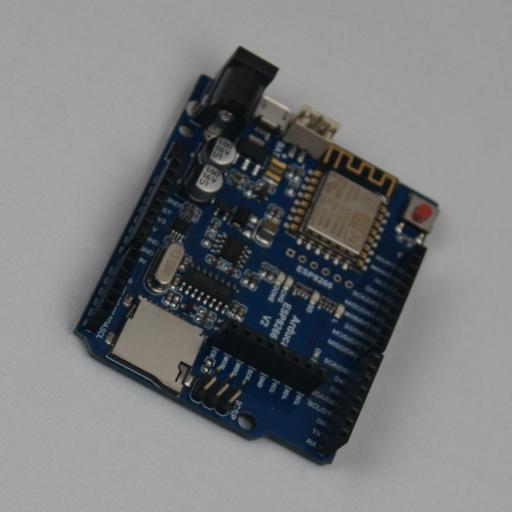Arduino Uno Camera Shield: (73, 46, 438, 466)
